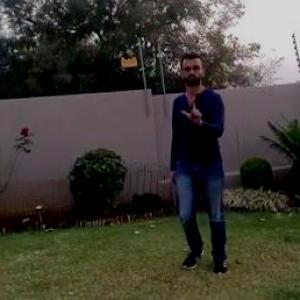land_hand: (178, 88, 209, 128)
